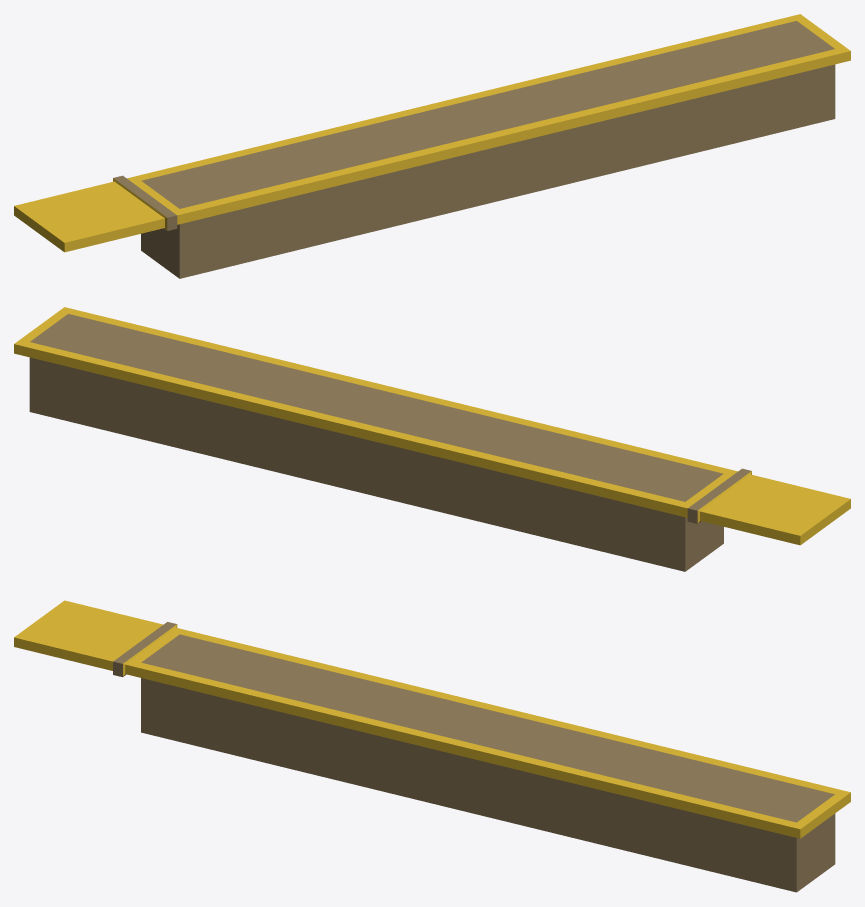
Rendered from coffee counter.fbx.
The picture shows the model from 3 angles, top to bottom: view 1: azimuth 30°, elevation 25°; view 2: azimuth 150°, elevation 25°; view 3: azimuth 330°, elevation 25°; orthographic projection.
Parts seen in each view (by area): view 1: Cube.006; view 2: Cube.006; view 3: Cube.006.
Part boxes in pixels (bbox=[...]): Cube.006: bbox=[14, 14, 850, 278]; Cube.006: bbox=[14, 307, 850, 571]; Cube.006: bbox=[14, 600, 850, 892].
Bounding box in the file's own units: 23.53 × 2.06 × 2.82.
